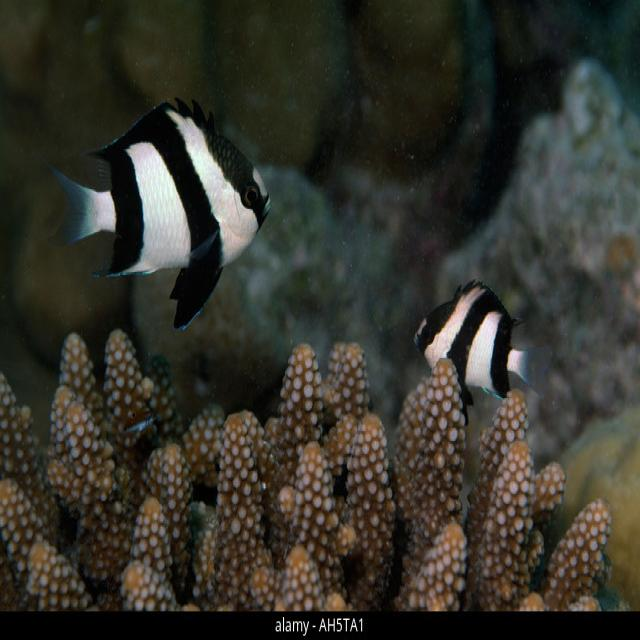ThreeStripedDamselfish: (46, 97, 269, 331), (415, 281, 527, 399)
